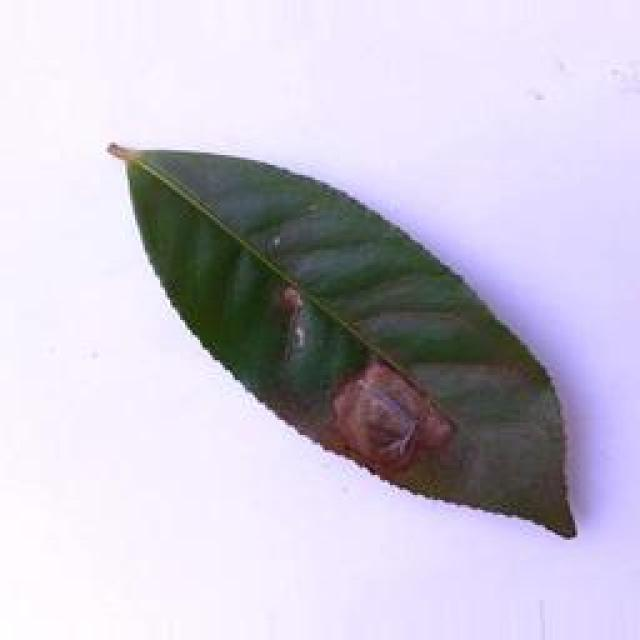Gray Blight: (106, 133, 580, 540)
